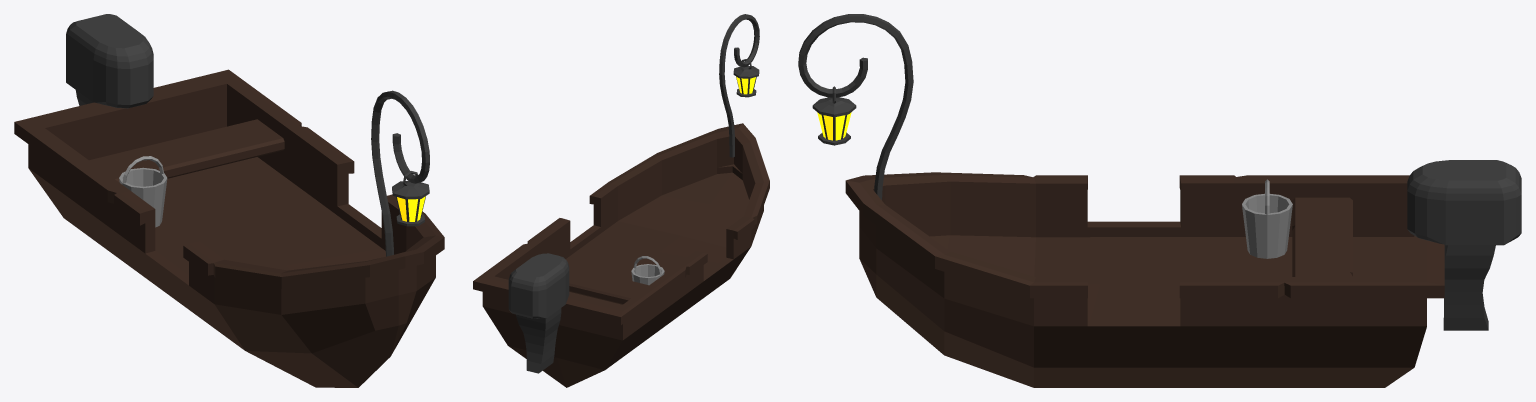
File: Boat(Motor).fbx
The picture shows the model from 3 angles, left to right: view 1: azimuth 30°, elevation 25°; view 2: azimuth 150°, elevation 25°; view 3: azimuth 270°, elevation 25°; orthographic projection. The views are drawn at different scales.
Parts seen in each view (by area): view 1: Cube, Cube.002, Cylinder, Bucket, Cube.001; view 2: Cube, Cube.002, Cylinder, Cube.001, Bucket; view 3: Cube, Cube.002, Cylinder, Bucket, Cube.001.
Boxes of the visible parts, x1,y1,x2,y2 form: Cube: [14, 69, 444, 387]; Cube.002: [66, 14, 153, 108]; Cylinder: [371, 90, 429, 256]; Bucket: [119, 156, 167, 227]; Cube.001: [392, 171, 429, 226]; Cube: [473, 123, 769, 387]; Cube.002: [508, 253, 569, 373]; Cylinder: [719, 14, 759, 157]; Cube.001: [733, 59, 759, 97]; Bucket: [631, 256, 664, 285]; Cube: [845, 172, 1444, 387]; Cube.002: [1407, 160, 1521, 330]; Cylinder: [798, 14, 913, 199]; Bucket: [1242, 179, 1292, 258]; Cube.001: [812, 86, 856, 145].
Size of the model in its own units: 513 by 808 by 1420.
